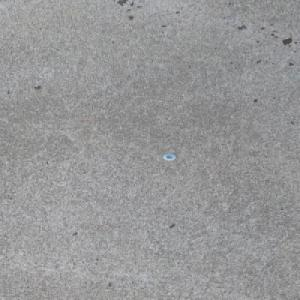Washer: (162, 152, 177, 160)
